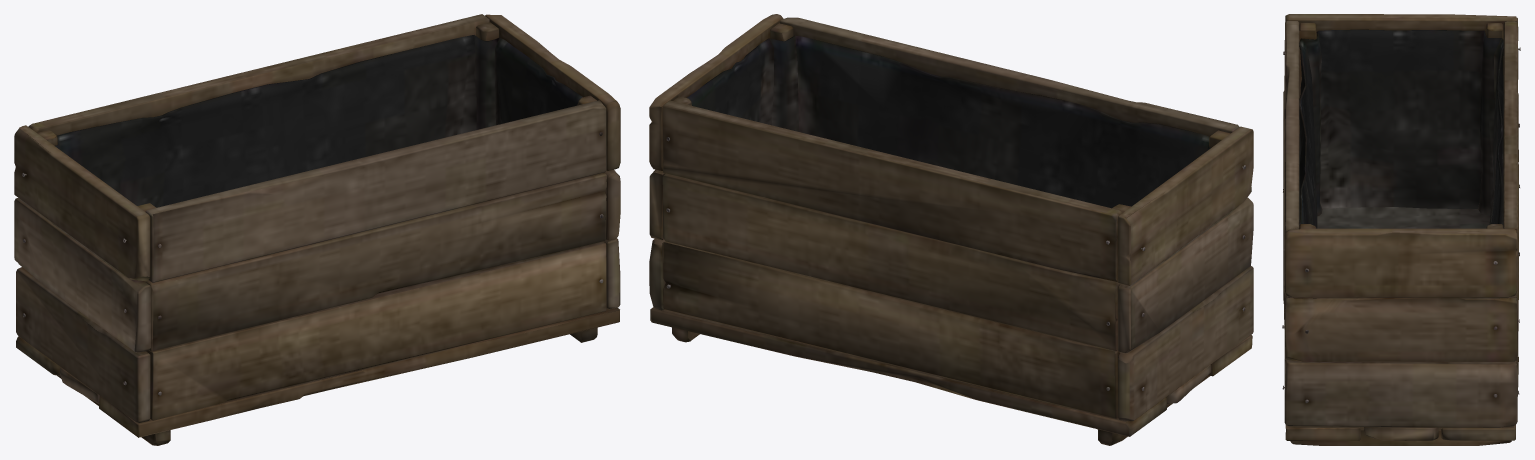
File: jardiniere.glb
The picture shows the model from 3 angles, left to right: view 1: azimuth 30°, elevation 25°; view 2: azimuth 150°, elevation 25°; view 3: azimuth 270°, elevation 25°; orthographic projection. The views are drawn at different scales.
Parts seen in each view (by area): view 1: planter_box_01; view 2: planter_box_01; view 3: planter_box_01.
Boxes of the visible parts, x1=… form: planter_box_01: x1=14, y1=14, x2=620, y2=445; planter_box_01: x1=649, y1=14, x2=1253, y2=445; planter_box_01: x1=1282, y1=14, x2=1520, y2=445.
Size of the model in its own units: 0.9126 by 0.4253 by 0.4137.
1 material, 1 textured.
